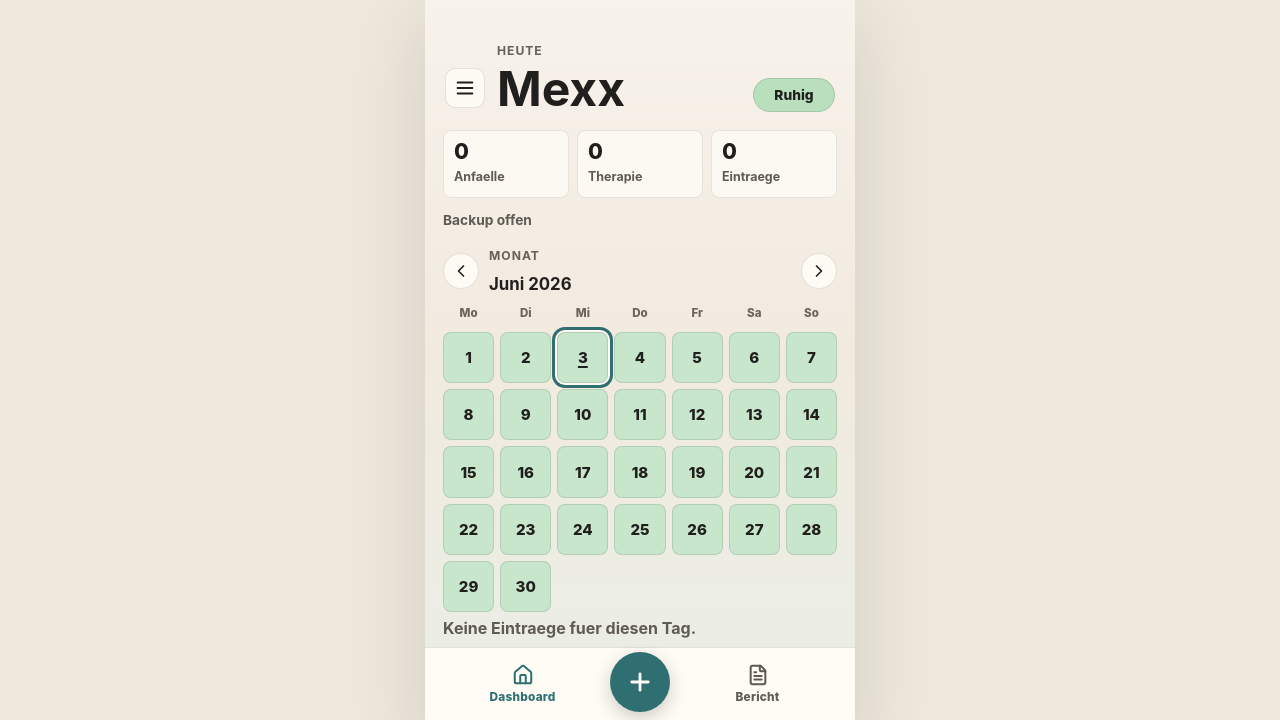
Test: App accessibility smoke › makes the primary quick action focusable via the keyboard
Expected: the heading "Mexx" is shown, [497,65,625,112]
Click the button named "Erfassen oeffnen" at (640, 682), box [610,652,670,712]
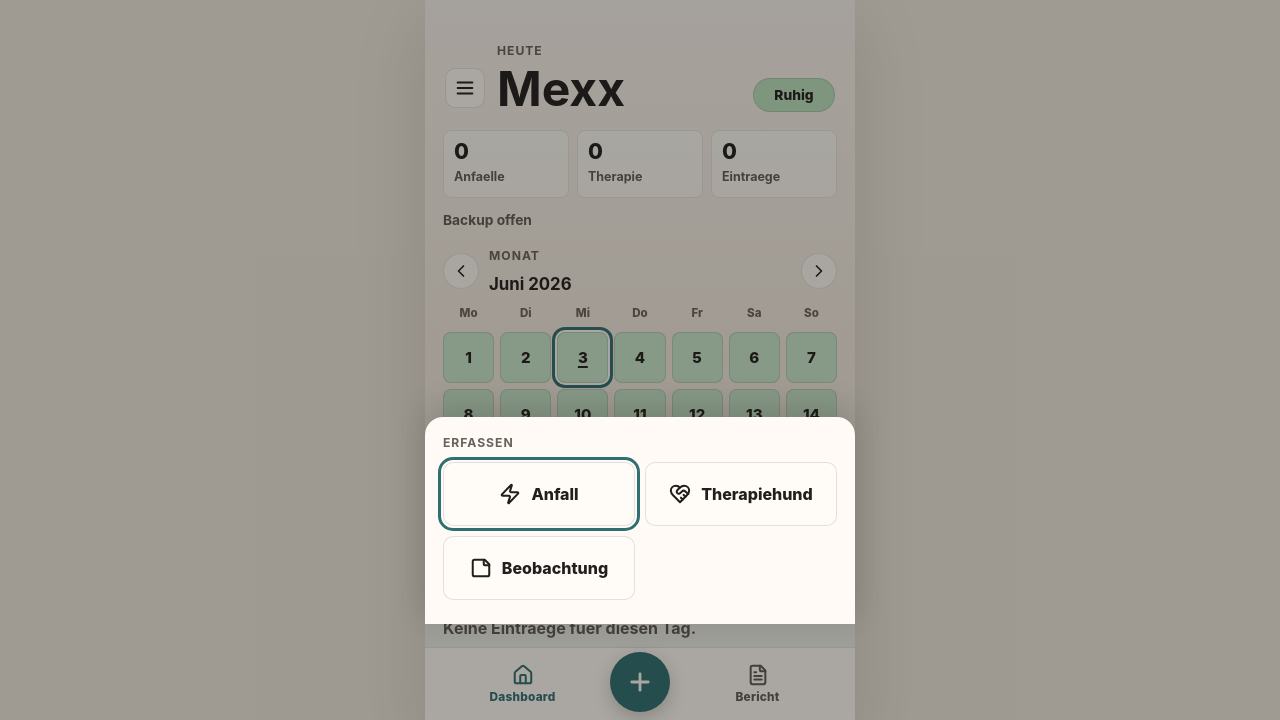
Press Enter
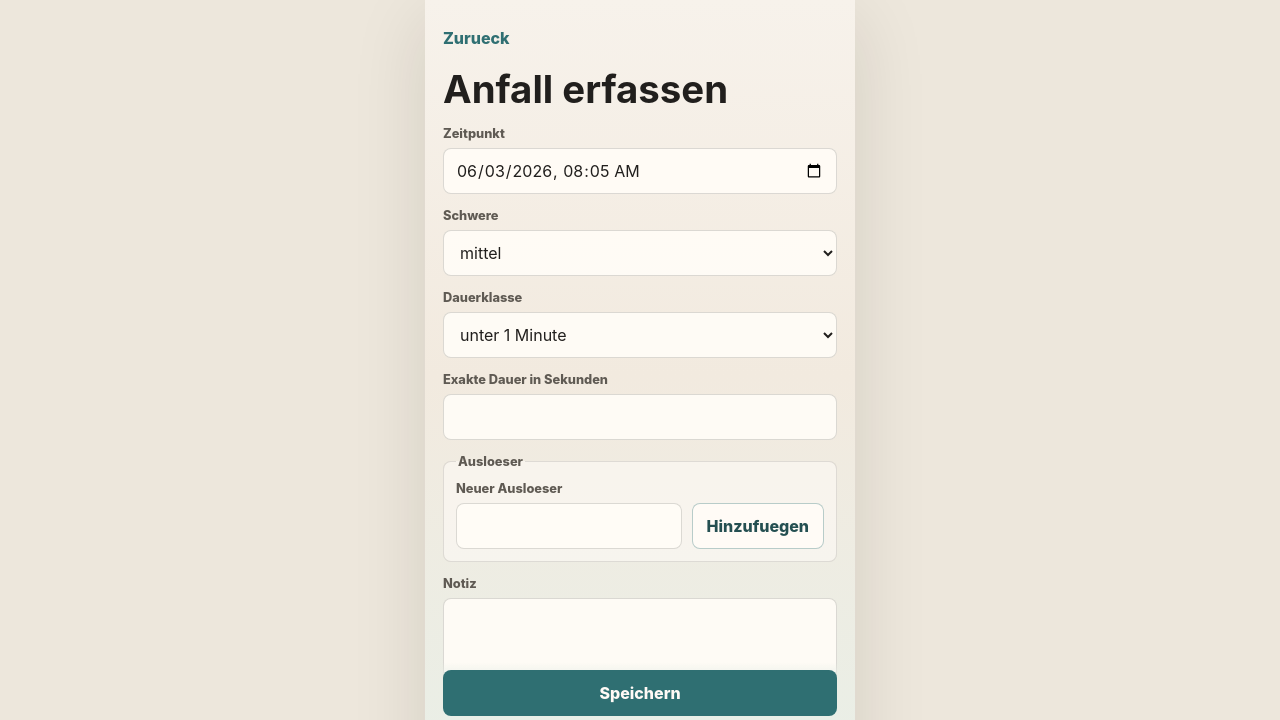
Result: the heading "Anfall erfassen" is shown at [443,66,728,112]
